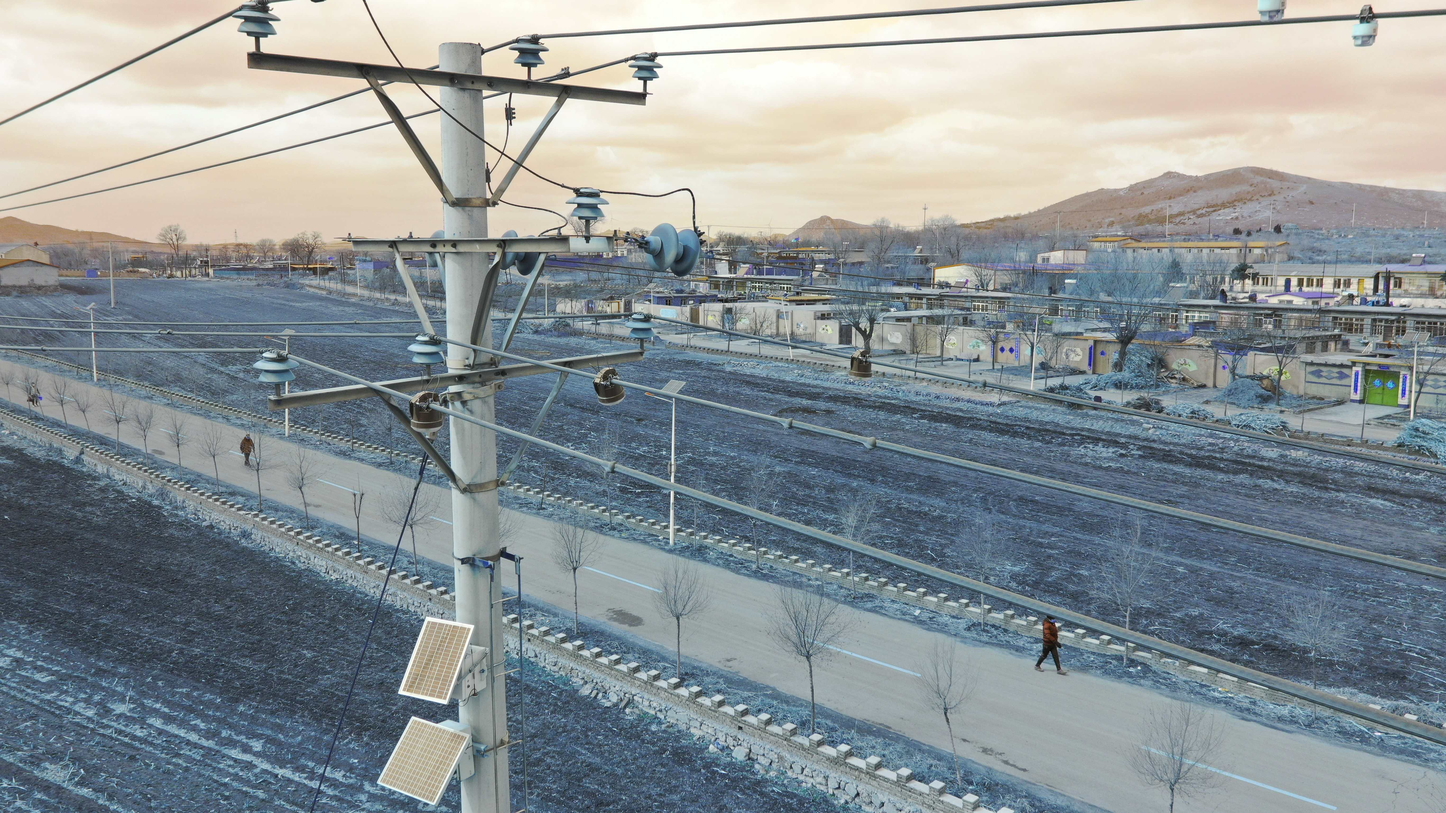severe_soiling_no_discharge_whole: (639, 223, 704, 279)
